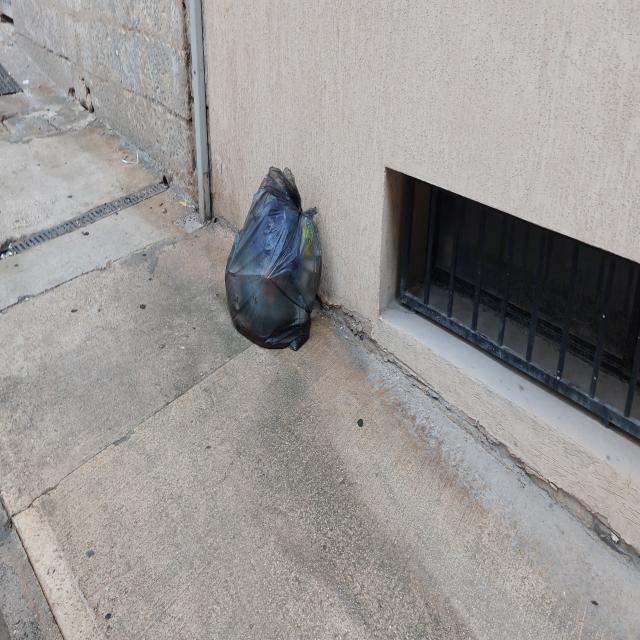Mixed Waste -Black Bag-: (227, 170, 324, 352)
